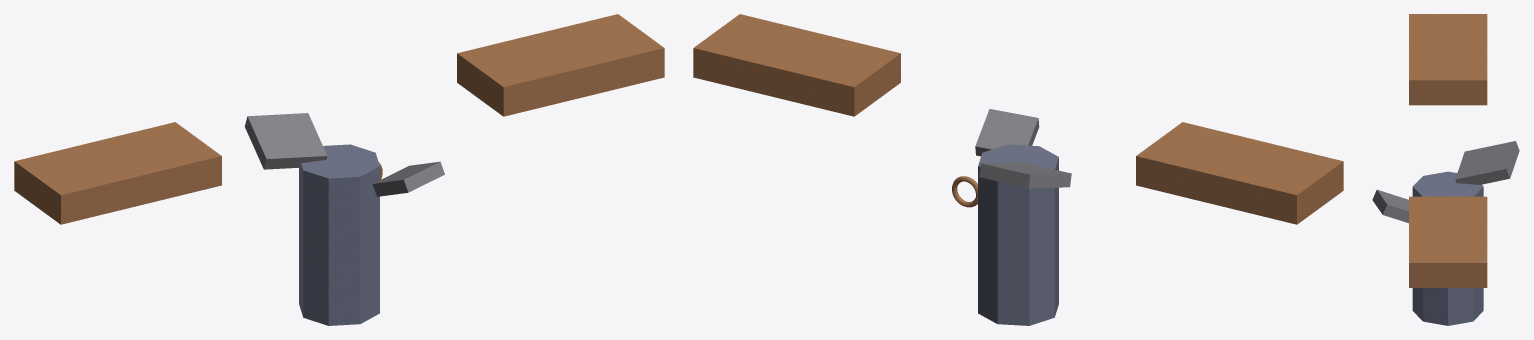
The model's file is shattered-causeway.glb.
The picture shows the model from 3 angles, left to right: view 1: azimuth 30°, elevation 25°; view 2: azimuth 150°, elevation 25°; view 3: azimuth 270°, elevation 25°; orthographic projection. The views are drawn at different scales.
Visible parts, largest first — view 1: causeway-support-pillar, causeway-left-span, causeway-right-span, causeway-collapse-shard-0, causeway-collapse-shard-1; view 2: causeway-left-span, causeway-right-span, causeway-support-pillar, causeway-collapse-shard-1, causeway-collapse-shard-0; view 3: causeway-left-span, causeway-right-span, causeway-support-pillar, causeway-collapse-shard-0, causeway-collapse-shard-1.
Boxes of the visible parts, bbox=[...] form: causeway-support-pillar: bbox=[299, 144, 379, 325]; causeway-left-span: bbox=[14, 122, 221, 224]; causeway-right-span: bbox=[457, 14, 664, 116]; causeway-collapse-shard-0: bbox=[244, 113, 327, 169]; causeway-collapse-shard-1: bbox=[372, 161, 444, 196]; causeway-left-span: bbox=[1136, 122, 1343, 224]; causeway-right-span: bbox=[693, 14, 900, 116]; causeway-support-pillar: bbox=[978, 144, 1058, 325]; causeway-collapse-shard-1: bbox=[975, 109, 1039, 156]; causeway-collapse-shard-0: bbox=[979, 162, 1071, 188]; causeway-left-span: bbox=[1409, 14, 1487, 105]; causeway-right-span: bbox=[1409, 196, 1487, 287]; causeway-support-pillar: bbox=[1412, 171, 1483, 325]; causeway-collapse-shard-0: bbox=[1455, 141, 1519, 184]; causeway-collapse-shard-1: bbox=[1372, 189, 1408, 223].
Size of the model in its own units: 3 by 0.97 by 0.7503.
Materials: 3 (3 with a texture image).
